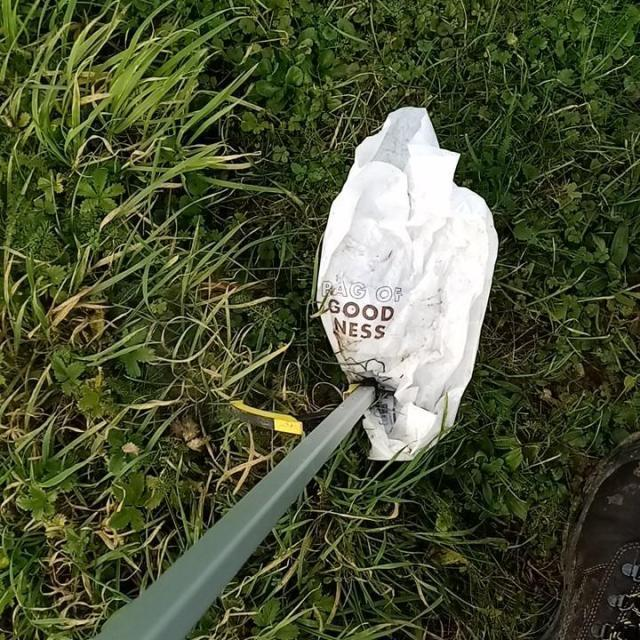Paper: (312, 105, 501, 462)
